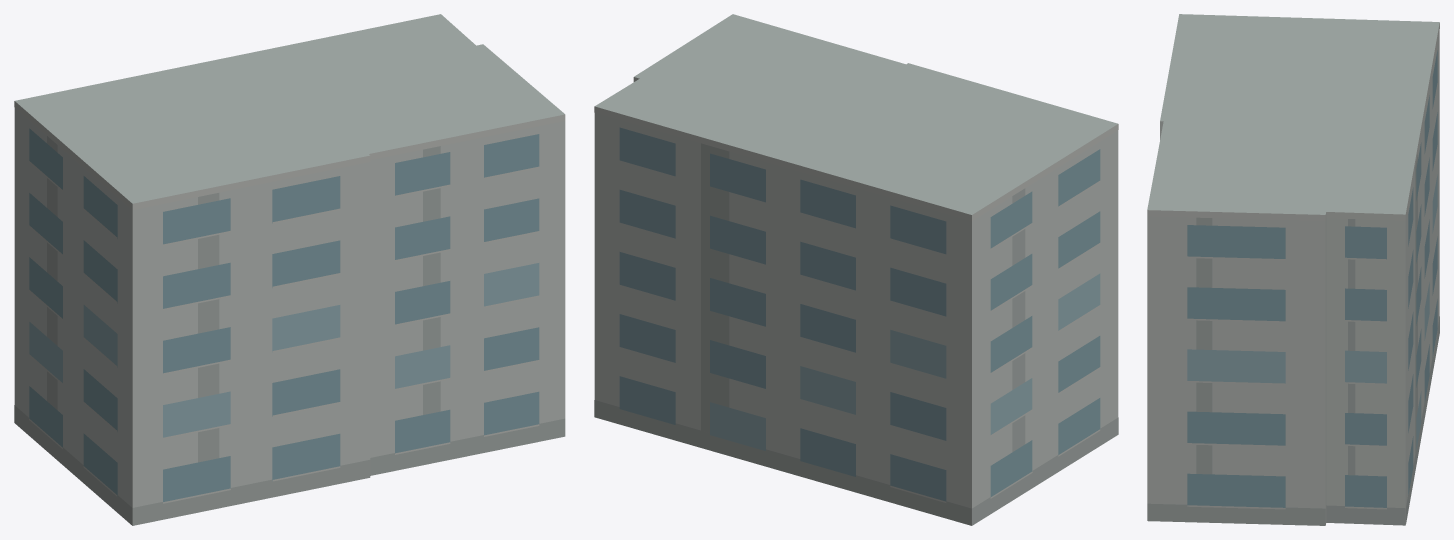
File: survey-upis-32768818.glb
The picture shows the model from 3 angles, left to right: view 1: azimuth 30°, elevation 25°; view 2: azimuth 150°, elevation 25°; view 3: azimuth 270°, elevation 25°; orthographic projection. The views are drawn at different scales.
Parts seen in each view (by area): view 1: survey-upis-32768818.tmp; view 2: survey-upis-32768818.tmp; view 3: survey-upis-32768818.tmp.
Boxes of the visible parts, x1=… form: survey-upis-32768818.tmp: x1=14, y1=14, x2=565, y2=525; survey-upis-32768818.tmp: x1=594, y1=14, x2=1118, y2=525; survey-upis-32768818.tmp: x1=1147, y1=14, x2=1439, y2=525.
Size of the model in its own units: 16.71 by 12.05 by 10.29.
